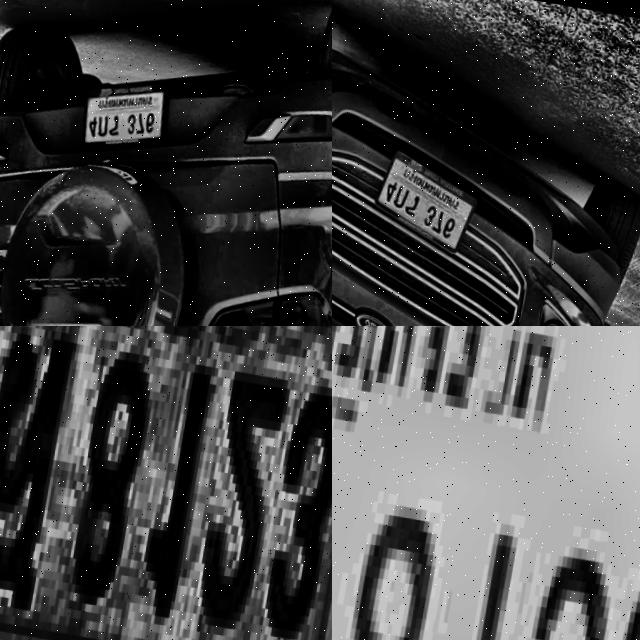license-plate: (0, 326, 332, 640), (332, 326, 640, 640), (371, 138, 487, 250), (79, 64, 177, 157)
